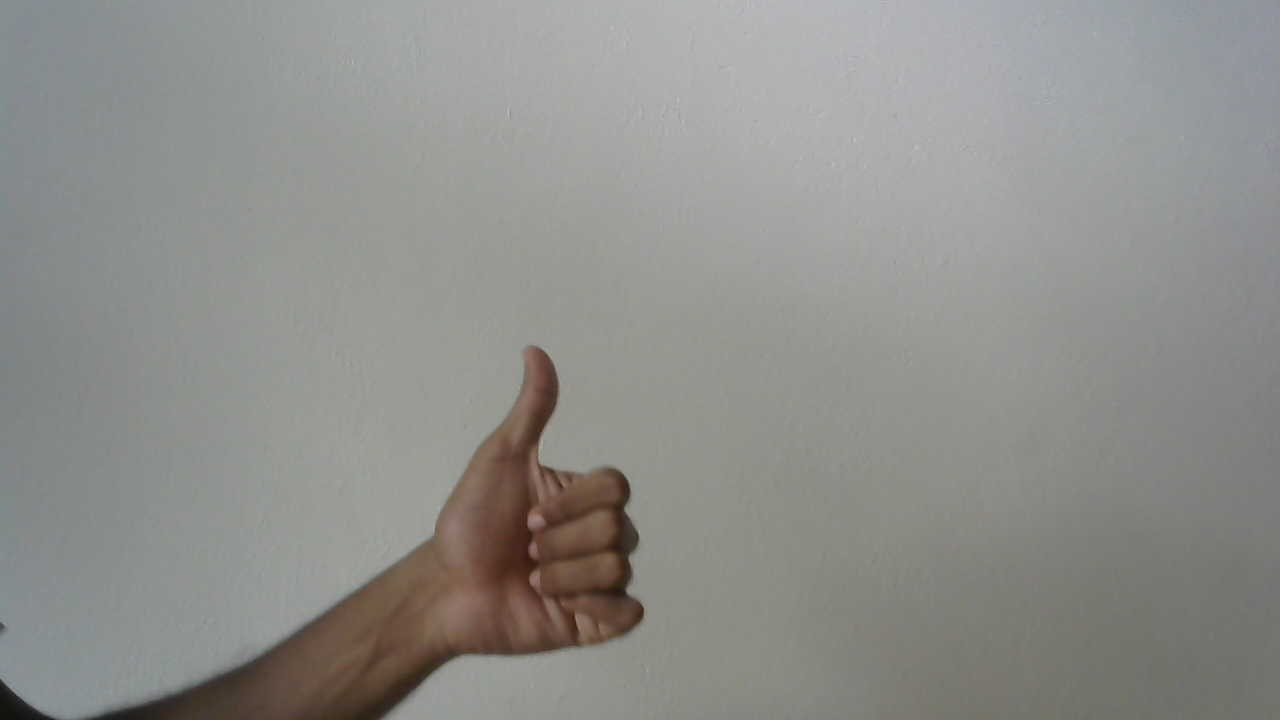thumbsup: (430, 331, 660, 675)
